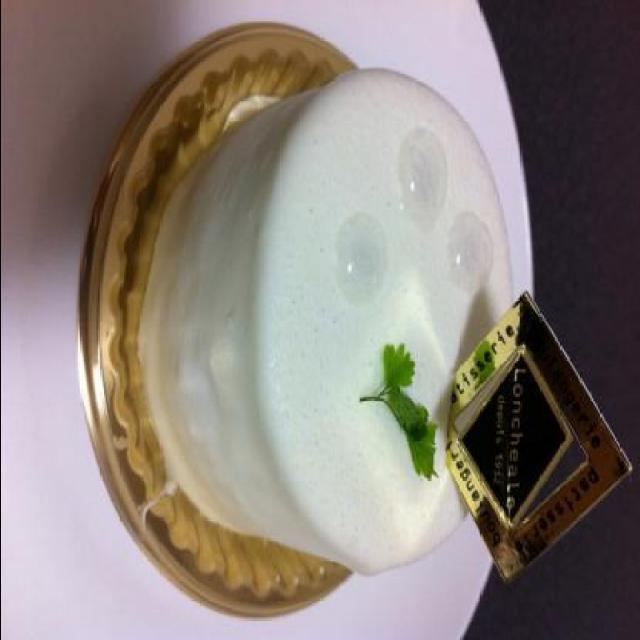Rare cheese cake: (84, 46, 574, 606)
